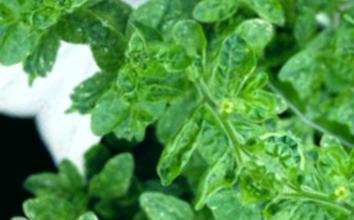Tomato leaf mosaic virus: (189, 24, 276, 116), (141, 106, 216, 192), (185, 0, 253, 39), (102, 60, 145, 107), (57, 204, 109, 220)
